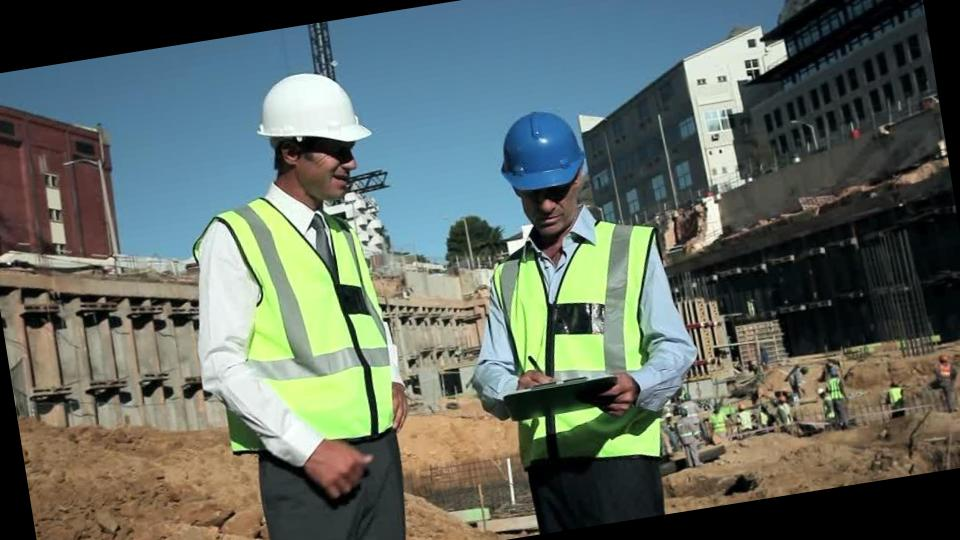Vest: (477, 210, 697, 488), (198, 188, 404, 464)
